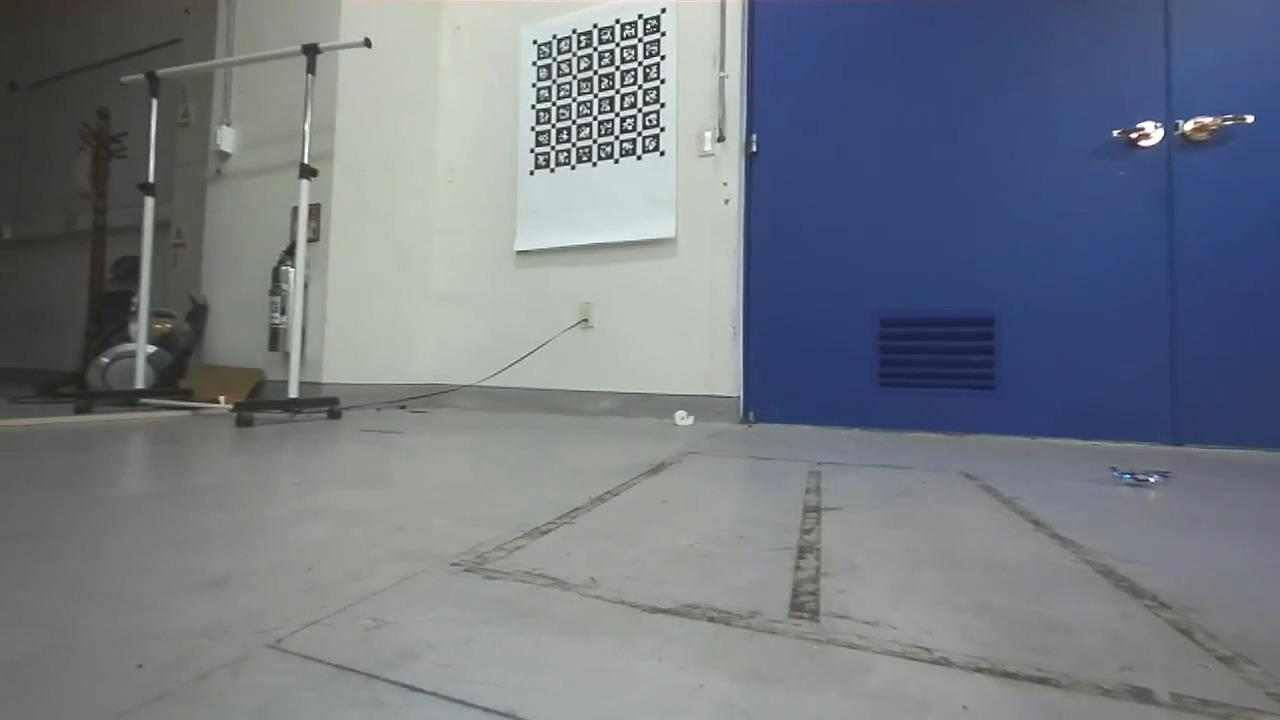crazyflie: (1112, 465, 1168, 491)
